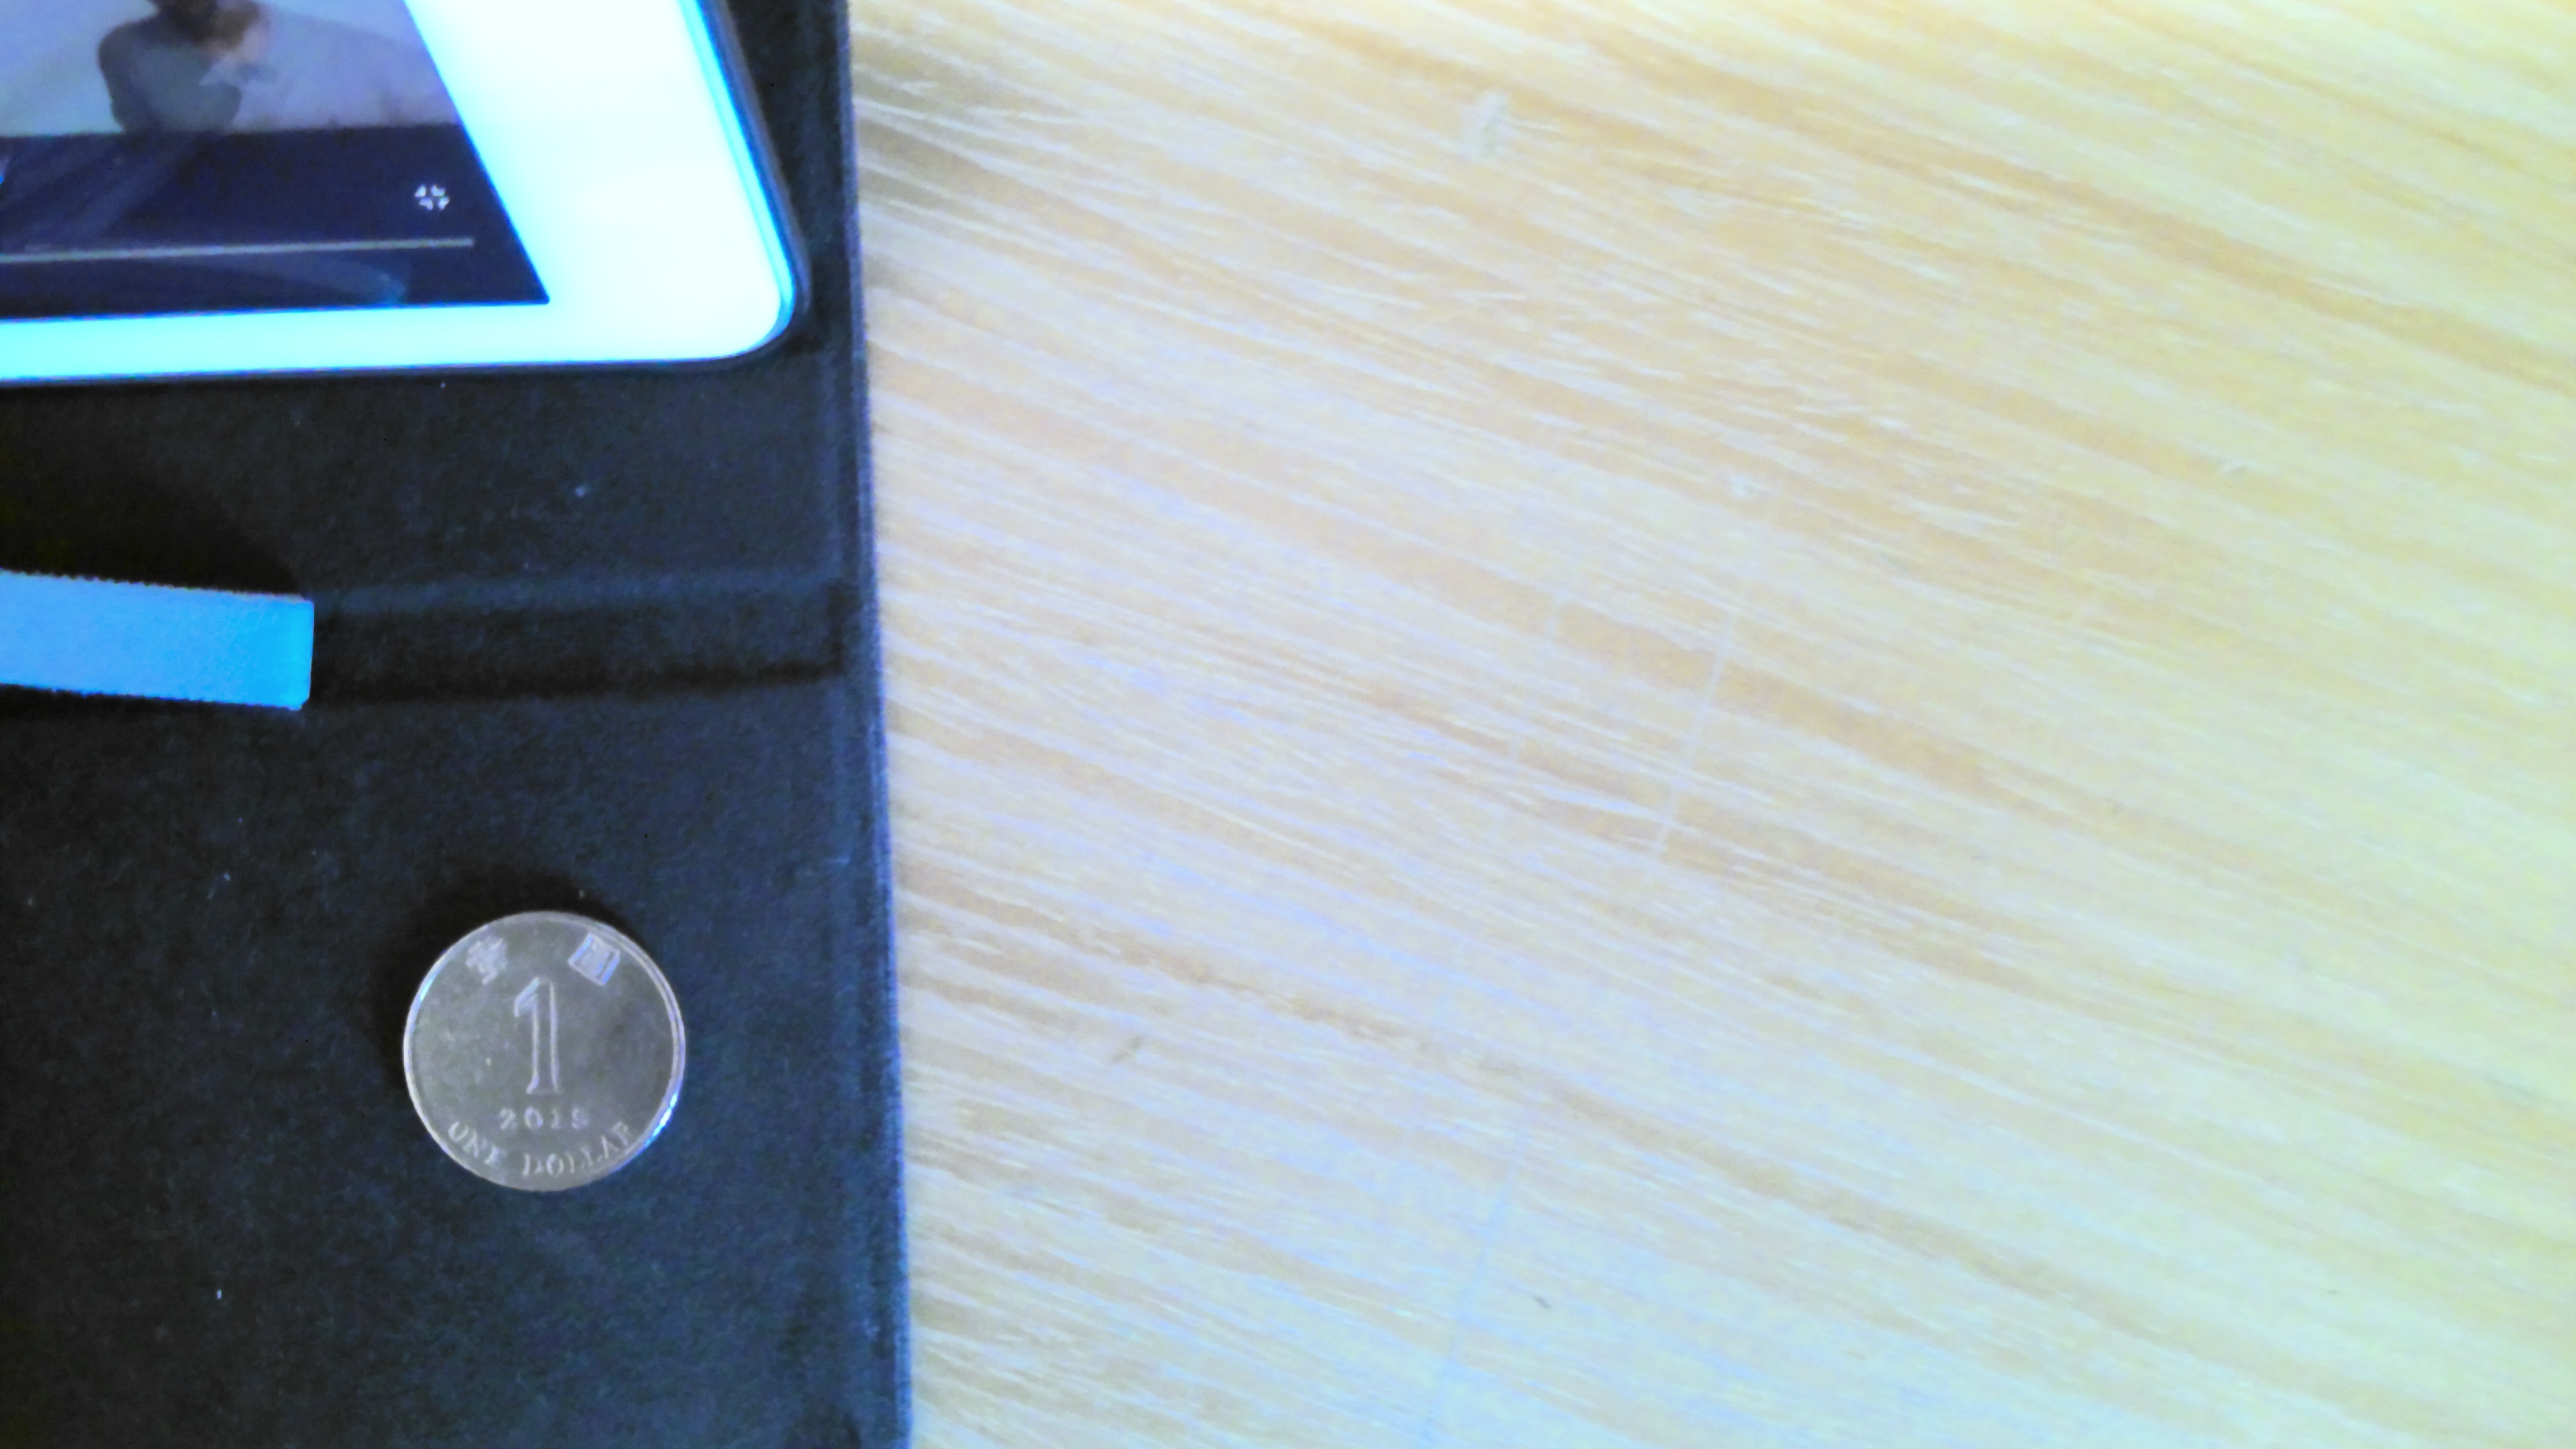one-dollar: (400, 913, 683, 1192)
